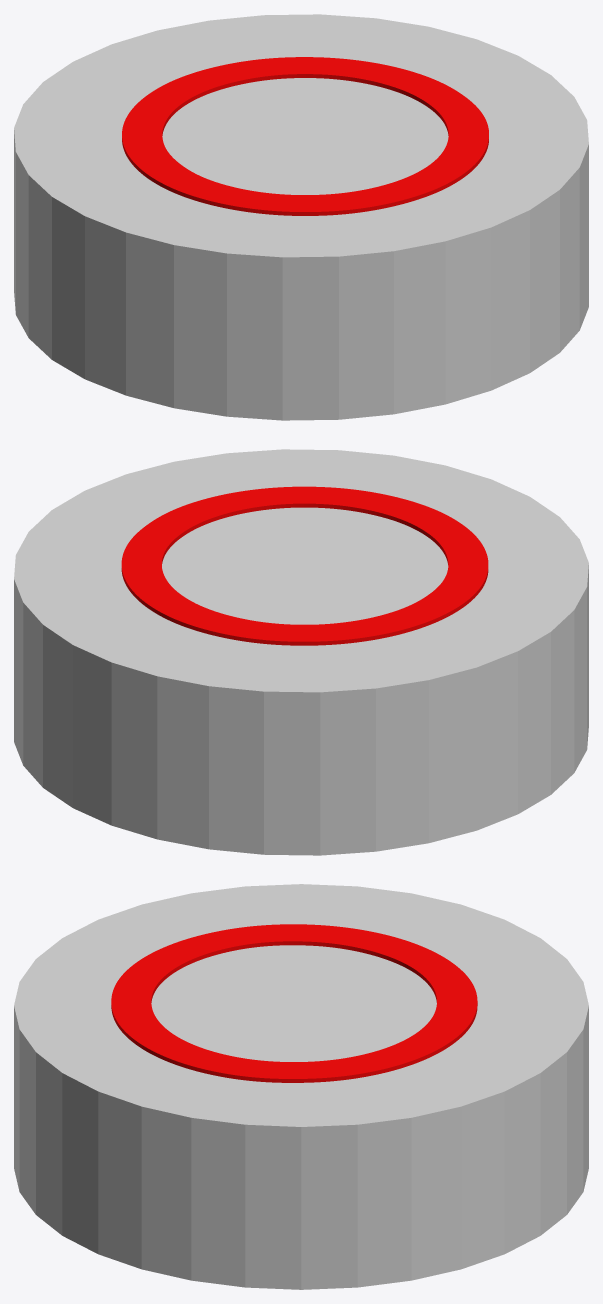
Rendered from button_circle_v3 1.fbx.
3 views of the same model, one above another, from view 1: azimuth 30°, elevation 25°; view 2: azimuth 150°, elevation 25°; view 3: azimuth 270°, elevation 25° (orthographic).
Parts seen in each view (by area): view 1: Text; view 2: Text; view 3: Text.
Boxes of the visible parts, x1,y1,x2,y2 form: Text: [14, 14, 588, 420]; Text: [14, 449, 588, 855]; Text: [14, 884, 588, 1289].
Bounding box in the file's own units: 80 × 25.6 × 80.
